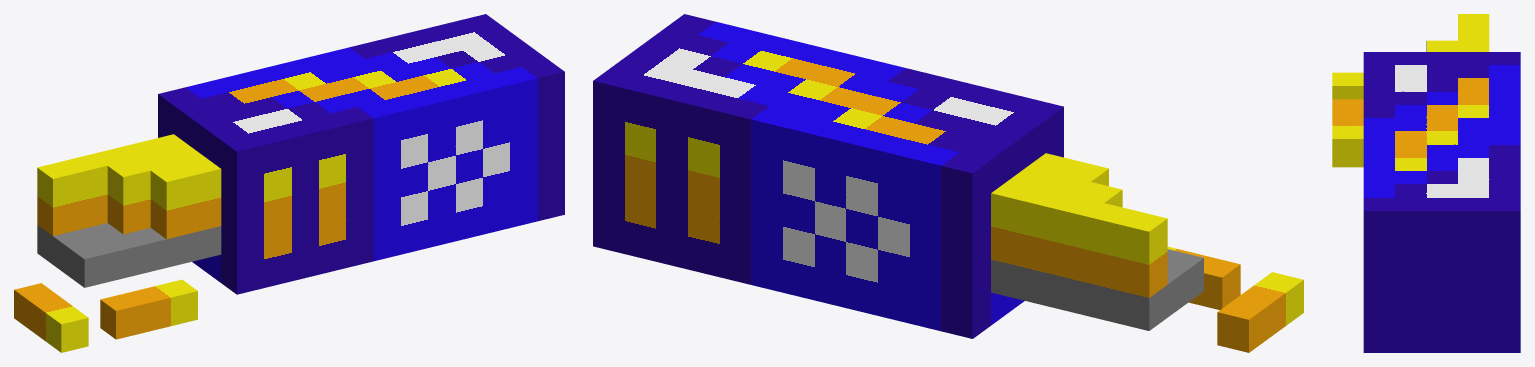
Rendered from Ammo.glb.
3 renders of one model, left to right at view 1: azimuth 30°, elevation 25°; view 2: azimuth 150°, elevation 25°; view 3: azimuth 270°, elevation 25°, orthographic. The views are drawn at different scales.
Visible parts, largest first — view 1: model; view 2: model; view 3: model.
Part boxes in pixels (x1,y1,x2,y2): model: (14,14,564,352); model: (593,14,1303,352); model: (1332,14,1520,352).
Bounding box in the file's own units: 1.9 × 0.5 × 0.6.
Materials: 1 (1 with a texture image).
